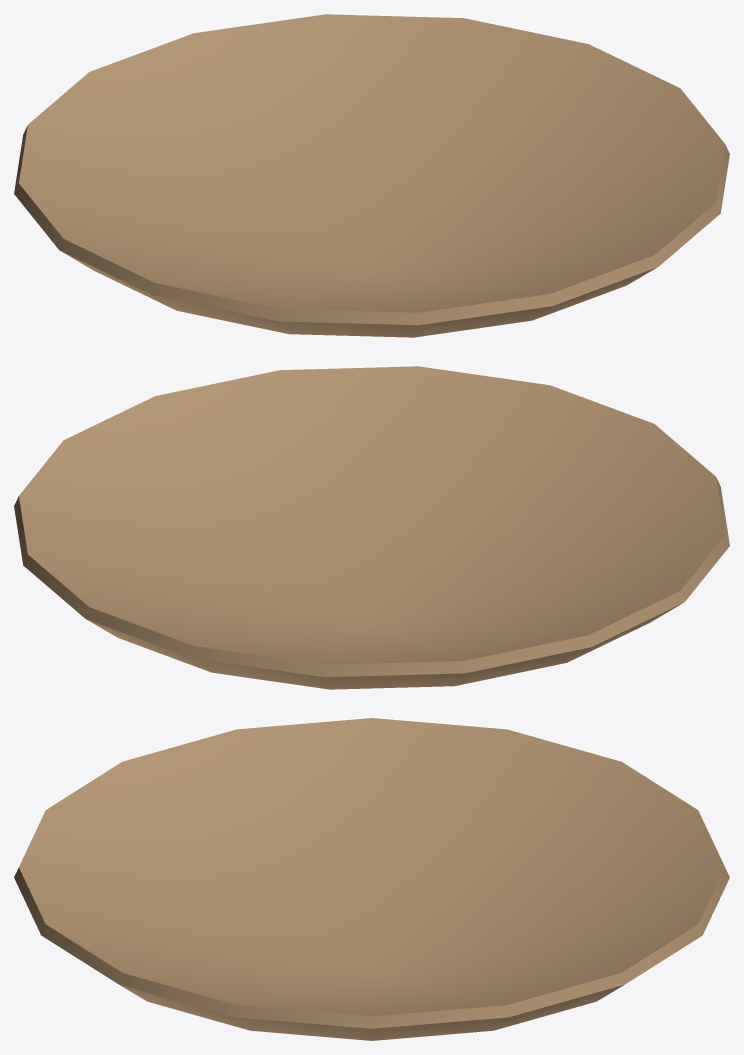
Rendered from dish.fbx.
3 renders of one model, top to bottom at view 1: azimuth 30°, elevation 25°; view 2: azimuth 150°, elevation 25°; view 3: azimuth 270°, elevation 25°, orthographic.
Parts seen in each view (by area): view 1: dish; view 2: dish; view 3: dish.
Part boxes in pixels (left/top/right/bottom): dish: left=14, top=14, right=729, bottom=337; dish: left=14, top=366, right=729, bottom=689; dish: left=14, top=718, right=729, bottom=1040.
Size of the model in its own units: 80 by 14.21 by 80.
